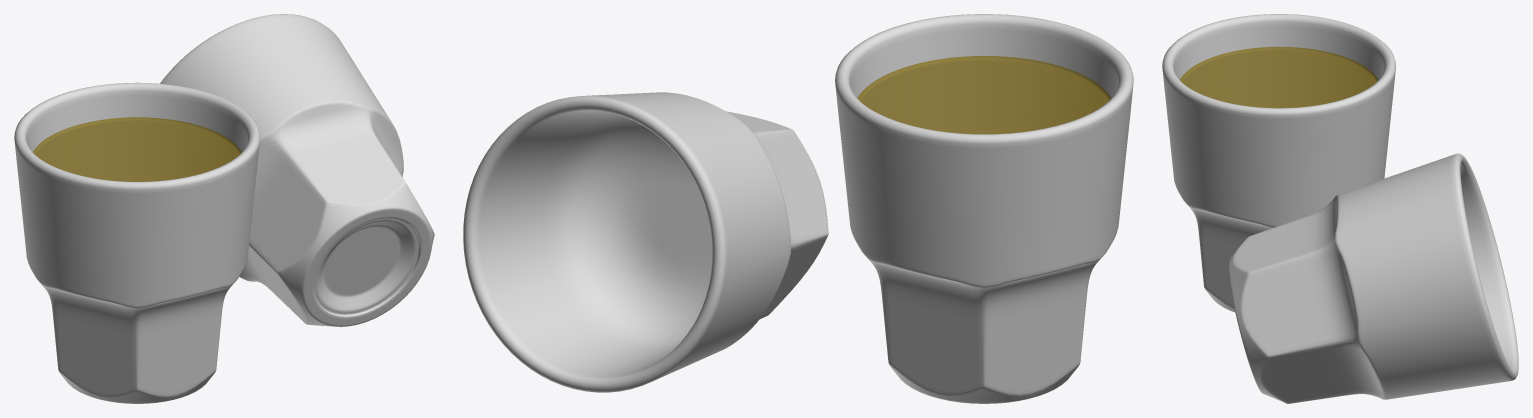
Rendered from shot_glass.glb.
3 renders of one model, left to right at view 1: azimuth 30°, elevation 25°; view 2: azimuth 150°, elevation 25°; view 3: azimuth 270°, elevation 25°, orthographic. The views are drawn at different scales.
Visible parts, largest first — view 1: glass_2, glass_1, whiskey; view 2: glass_2, glass_1, whiskey; view 3: glass_1, glass_2, whiskey.
Boxes of the visible parts, <box> form: glass_2: <box>14,82,260,403</box>; glass_1: <box>160,14,434,326</box>; whiskey: <box>32,117,241,181</box>; glass_2: <box>835,14,1133,403</box>; glass_1: <box>463,92,828,392</box>; whiskey: <box>857,56,1111,134</box>; glass_1: <box>1228,153,1518,403</box>; glass_2: <box>1162,14,1395,312</box>; whiskey: <box>1180,46,1378,108</box>.
Size of the model in its own units: 0.1891 by 0.102 by 0.1442.
